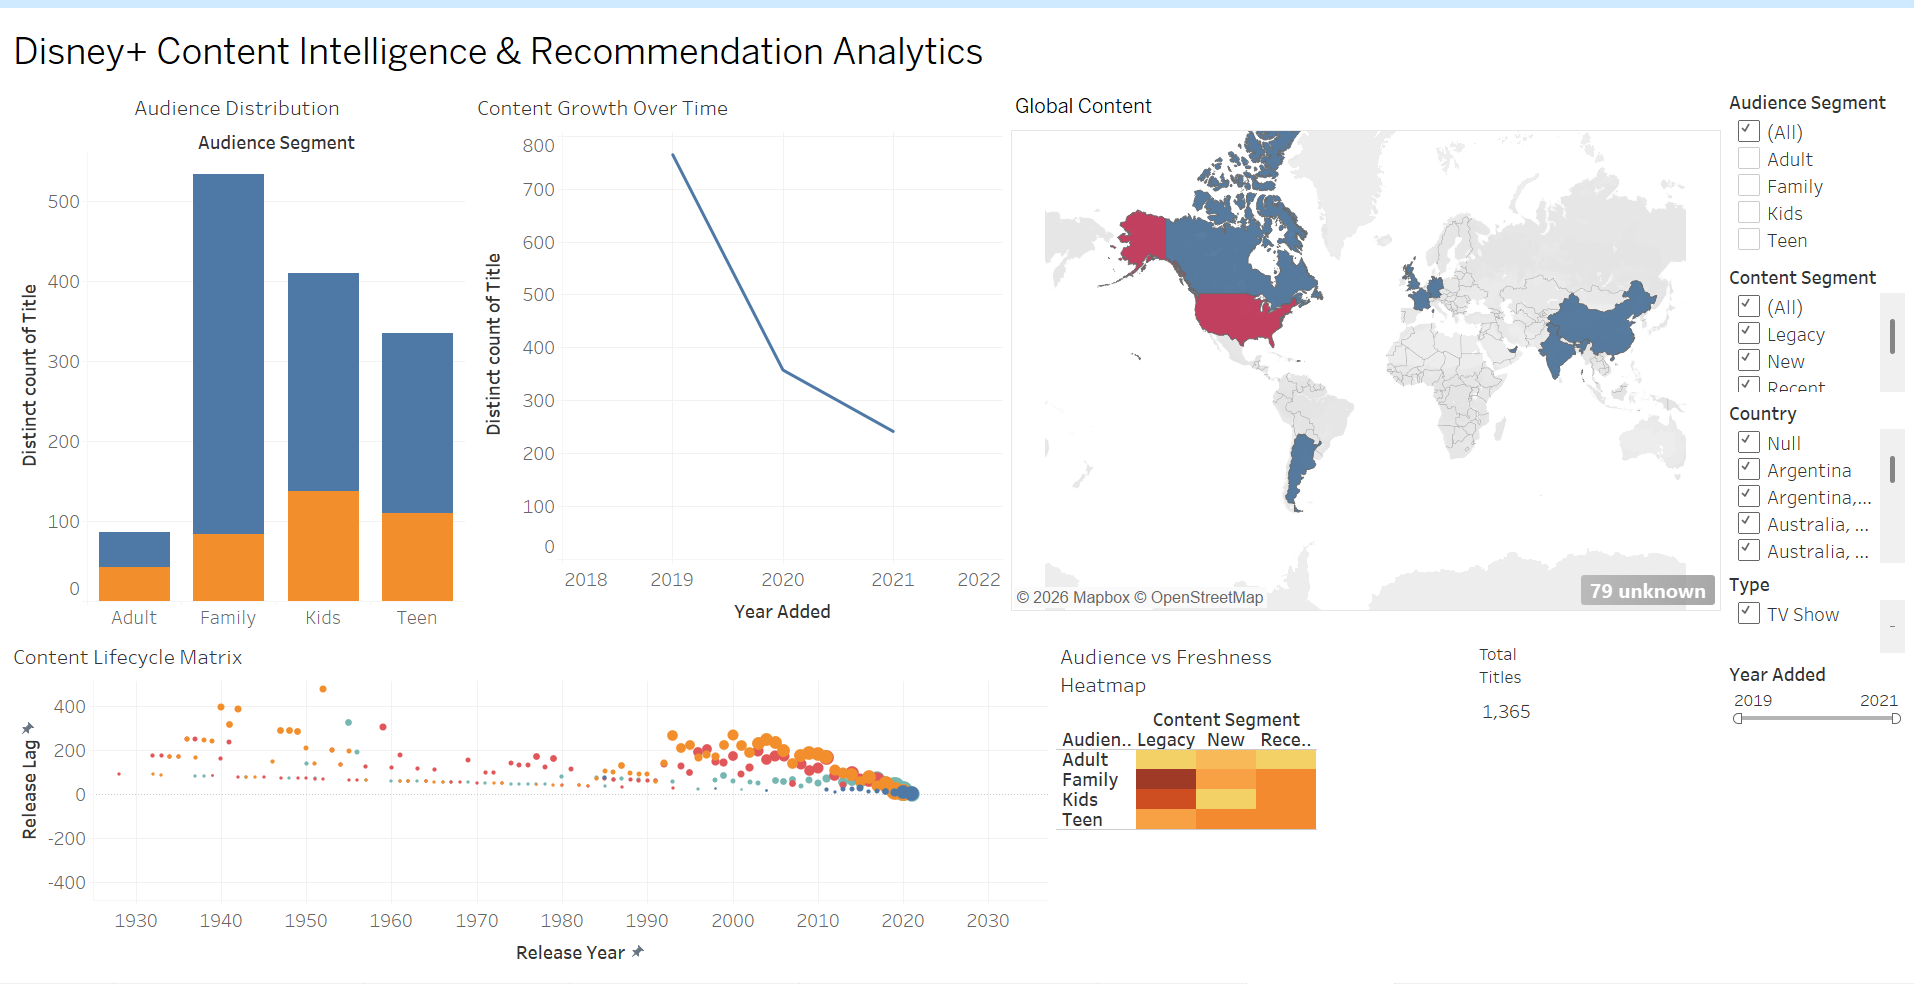

This screenshot's page, from the dashboard's own definition file:
{"tool":"tableau","page":{"name":"Dashboard 1","canvas":[1000,1000],"units":"permille","ordinal":0},"visuals":[{"type":"title","box":[5.1,10.7,989.9,92.5]},{"type":"worksheet","title":"Audience Distribution","mark":"Automatic","rows":["title"],"cols":["audience_segment"],"box":[5.1,103.2,235.7,546.9]},{"type":"worksheet","title":"Content Growth Over Time","mark":"Automatic","rows":["title"],"cols":["year_added"],"box":[240.8,103.2,273.1,546.9]},{"type":"worksheet","title":"Global Content","mark":"Automatic","box":[513.9,103.2,364.4,546.9]},{"type":"filter","title":"Audience Distribution","param":"[federated.0pjwvyx0582uqc1crl6z91x0epbq].[none:audience_segment:nk]","box":[878.3,103.2,116.6,234.6]},{"type":"filter","title":"Audience Distribution","param":"[federated.0pjwvyx0582uqc1crl6z91x0epbq].[none:content_segment:nk]","box":[878.3,337.8,116.6,182.3]},{"type":"filter","title":"Audience Distribution","param":"[federated.0pjwvyx0582uqc1crl6z91x0epbq].[none:country:nk]","box":[878.3,520.1,116.6,229.2]},{"type":"worksheet","title":"Content Lifecycle Matrix","mark":"Circle","rows":["release_lag"],"cols":["release_year"],"box":[5.1,650.1,531.7,339.2]},{"type":"worksheet","title":"Audience vs Freshness Heatmap","mark":"Automatic","rows":["audience_segment"],"cols":["content_segment"],"box":[536.8,650.1,212.9,339.2]},{"type":"worksheet","title":"Total Titles","mark":"Automatic","box":[749.7,650.1,128.7,339.2]},{"type":"filter","title":"Audience Distribution","param":"[federated.0pjwvyx0582uqc1crl6z91x0epbq].[none:type:nk]","box":[878.3,749.3,116.6,120.6]},{"type":"filter","title":"Audience Distribution","param":"[federated.0pjwvyx0582uqc1crl6z91x0epbq].[none:year_added:qk]","box":[878.3,870,116.6,103.2]}]}

Visuals, with their boxes on the dashboard's canvas, which has no fixed pixel size, in thousandths of its width and height (x1, y1, x2, y2). These are canvas units, not pixel positions in the 1914x984 screenshot, which may show the page scaled, cropped or inside an application window:
title: [5,11,995,103]
"Audience Distribution" worksheet: [5,103,241,650]
"Content Growth Over Time" worksheet: [241,103,514,650]
"Global Content" worksheet: [514,103,878,650]
"Audience Distribution" filter: [878,103,995,338]
"Audience Distribution" filter: [878,338,995,520]
"Audience Distribution" filter: [878,520,995,749]
"Content Lifecycle Matrix" worksheet (Circle marks): [5,650,537,989]
"Audience vs Freshness Heatmap" worksheet: [537,650,750,989]
"Total Titles" worksheet: [750,650,878,989]
"Audience Distribution" filter: [878,749,995,870]
"Audience Distribution" filter: [878,870,995,973]
